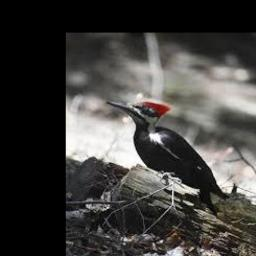Woodpecker: (106, 99, 229, 212)
